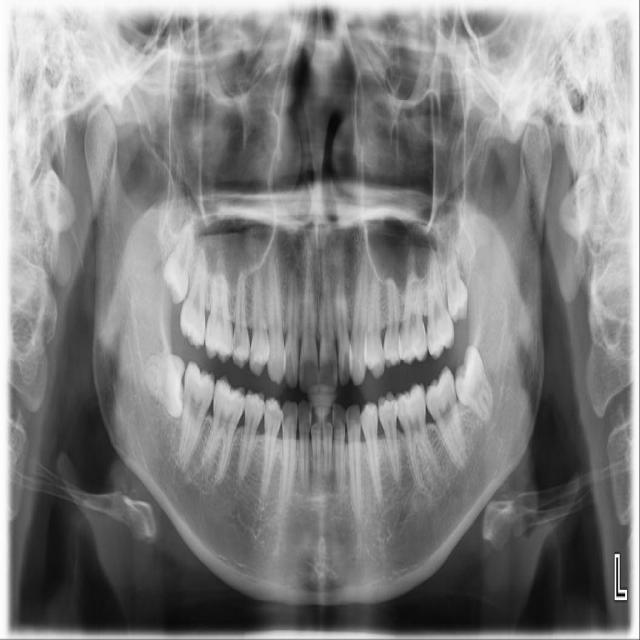impacted tooth: (138, 351, 185, 420), (162, 210, 198, 299), (454, 344, 494, 420), (445, 234, 471, 322)
